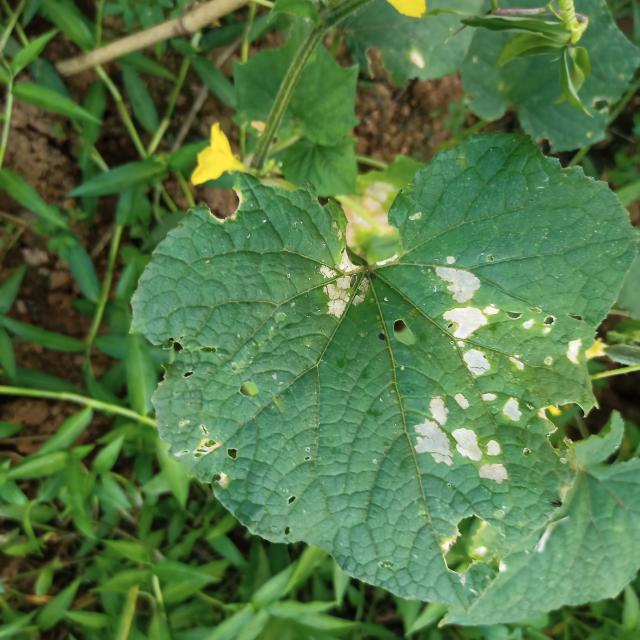disease_cucumber: (430, 250, 596, 385), (406, 386, 539, 495), (292, 231, 378, 326)
